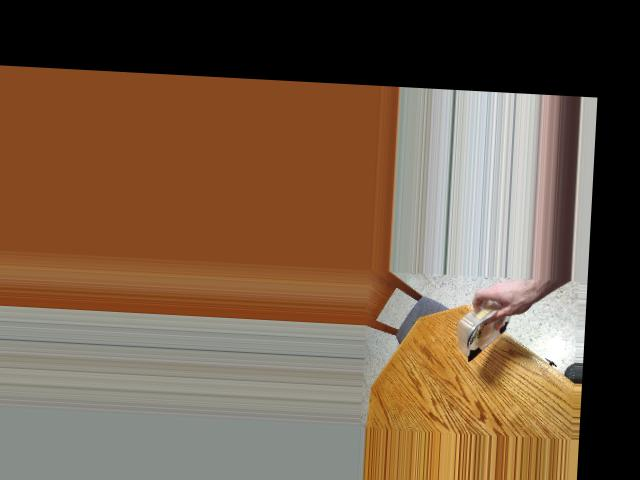cheese: (443, 295, 531, 360)
